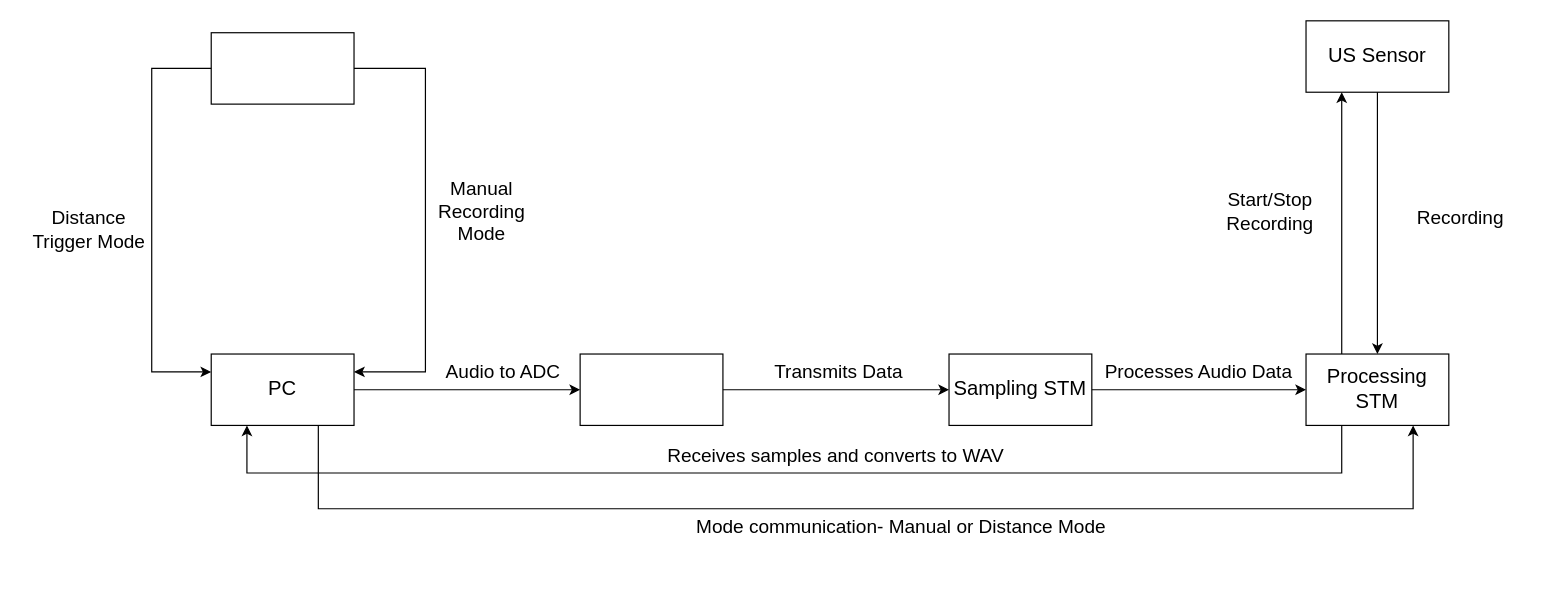
Image size: 1564x601. Some labels were removed from this diagram. The centre of each missing label's shape, as x and y in pixels:
"ADC" goes at pixel 651 389.
"CLI" goes at pixel 282 68.
